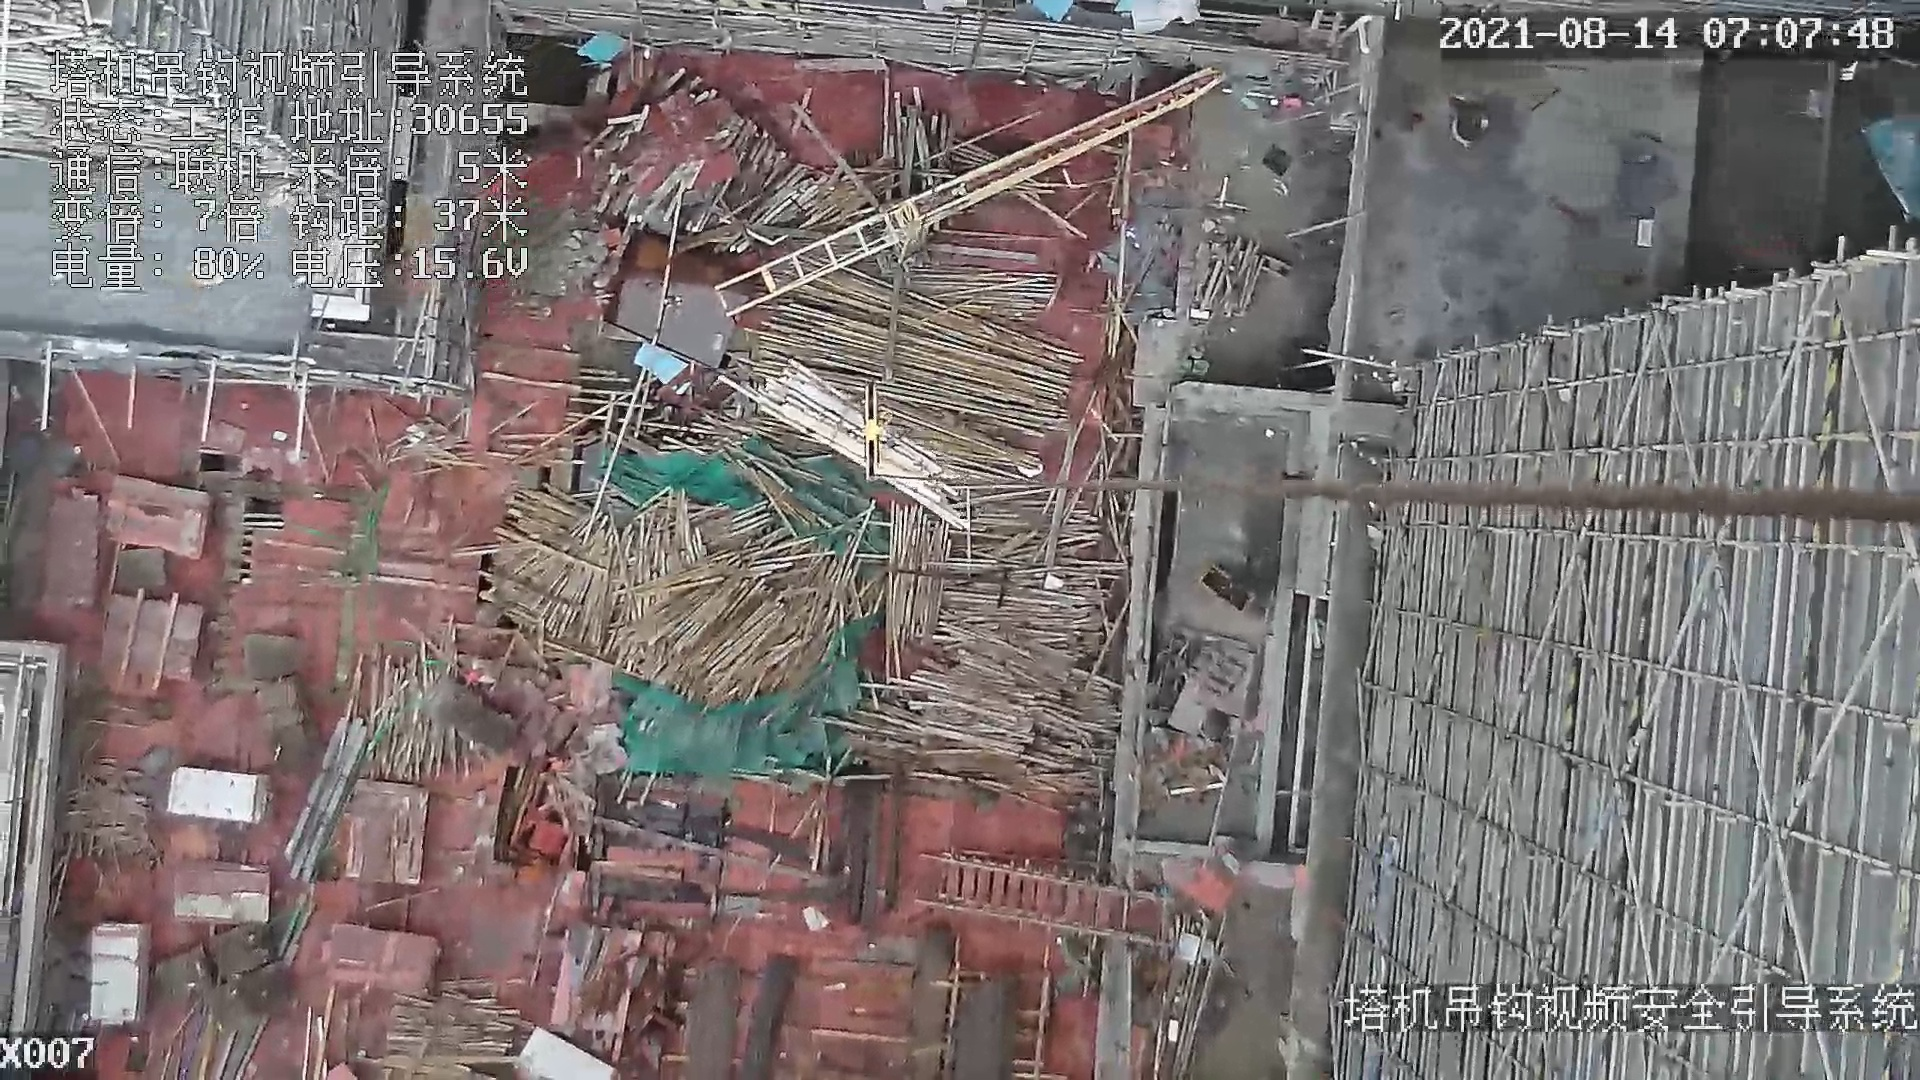hook: (858, 386, 887, 489)
